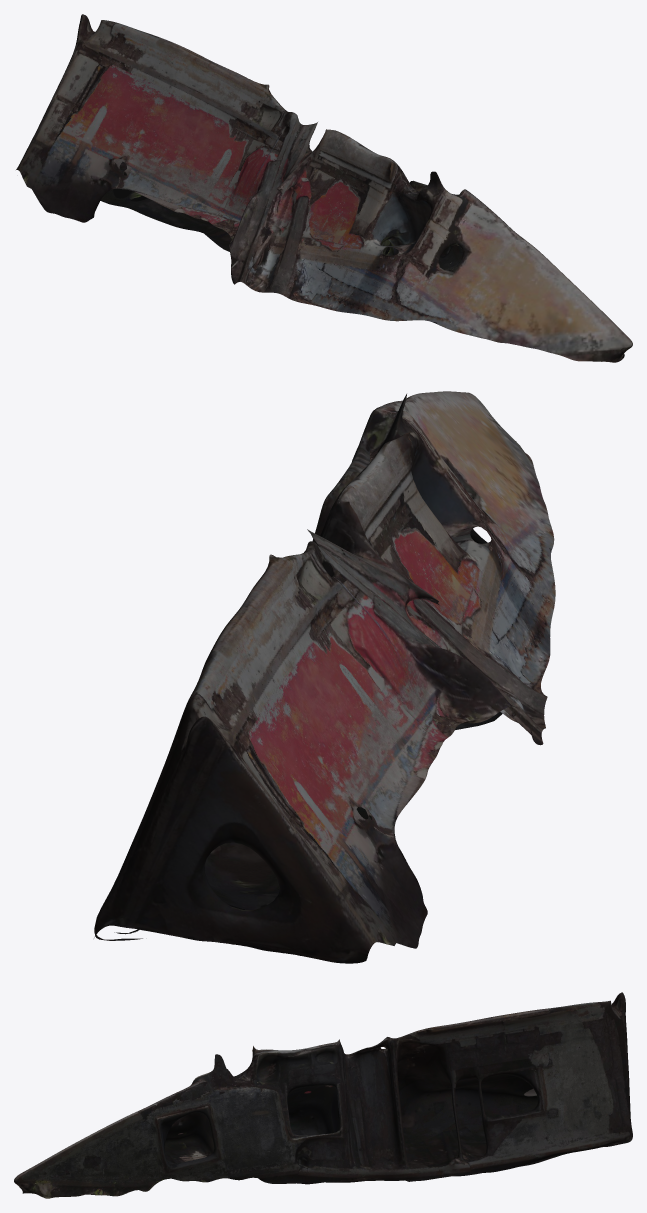
The model's file is GEO_Port.glb.
3 renders of one model, top to bottom at view 1: azimuth 30°, elevation 25°; view 2: azimuth 150°, elevation 25°; view 3: azimuth 270°, elevation 25°, orthographic. The views are drawn at different scales.
Visible parts, largest first — view 1: geo1; view 2: geo1; view 3: geo1.
Part boxes in pixels (x1,y1,x2,y2): geo1: (16, 14, 632, 362); geo1: (94, 391, 555, 963); geo1: (14, 992, 632, 1198).
Bounding box in the file's own units: 3.06 × 1.67 × 6.72.
1 material, 1 textured.
